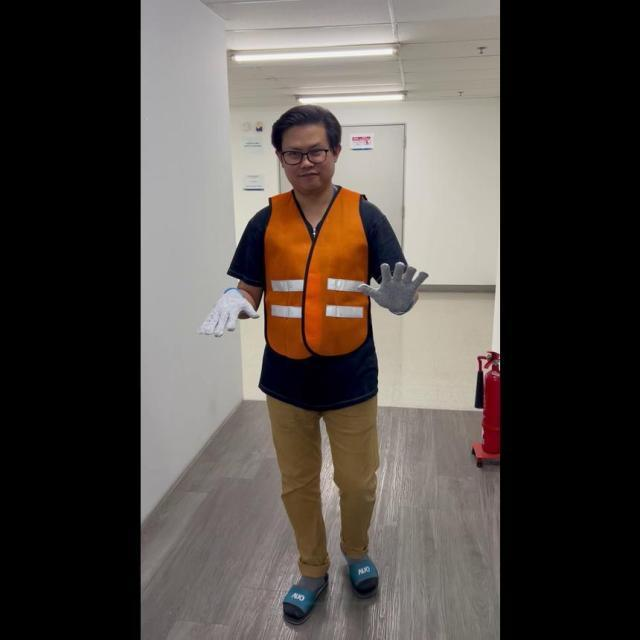gloved_hand: (358, 256, 426, 315), (196, 281, 259, 339)
